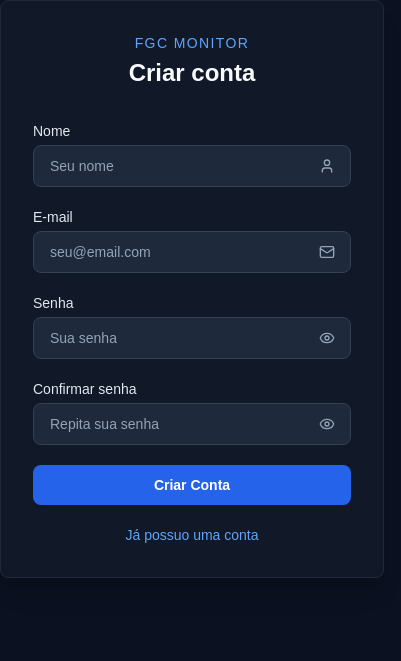
Test: REgister › mostra o erro retornado pela API quando a requisição falha
Type "Fulano da Silva" into the field labelled "Nome". click: (192, 166)
box: [33,145,351,187]
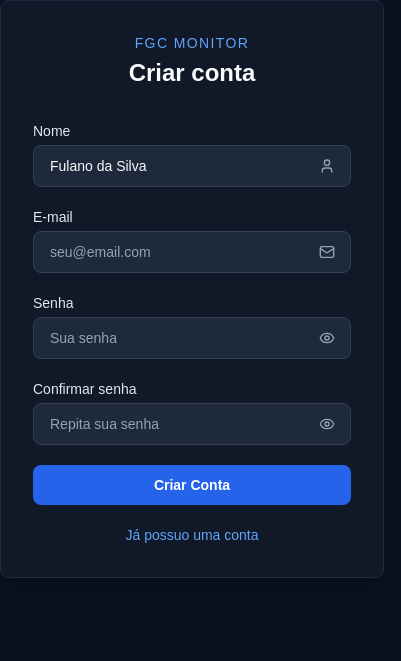
Type "fulano@example.com" into the field labelled "E-mail". click: (192, 252)
box: [33,231,351,273]
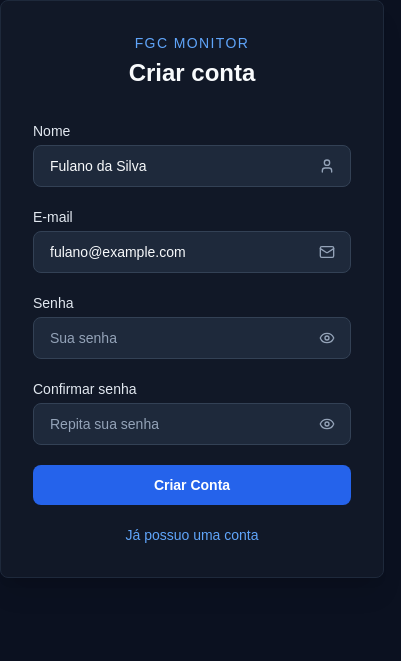
Type "@Senha12" into the password field labelled "Senha". click: (192, 338)
box: [33,317,351,359]
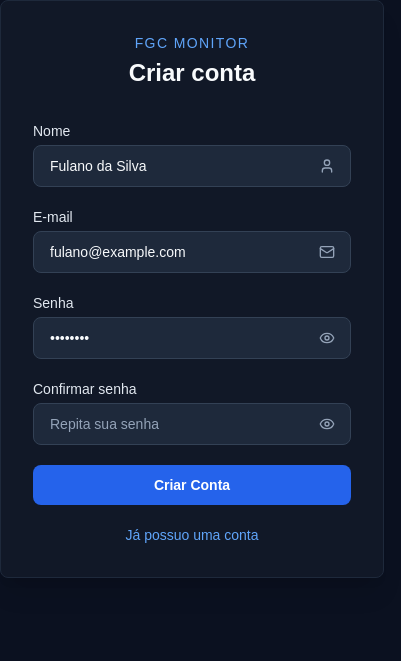
Type "@Senha12" into the password field labelled "Confirmar senha". click: (192, 424)
box: [33,403,351,445]
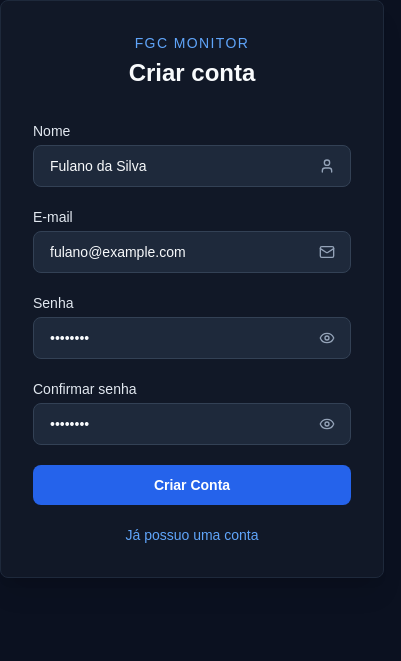
Click the button "Criar Conta". click: (192, 485)
box: [33,465,351,505]
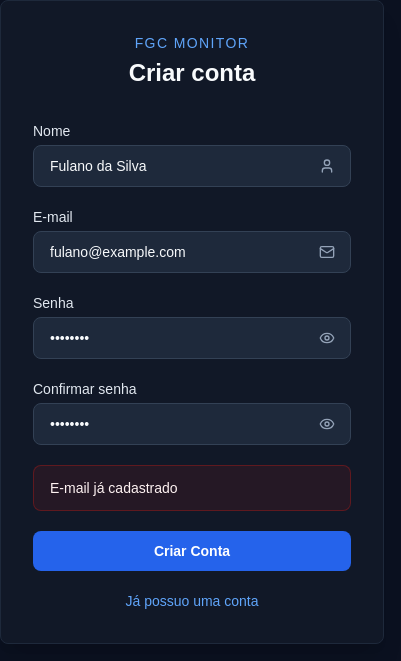
expect the message reads "E-mail já cadastrado": met, box [50,480,178,496]
